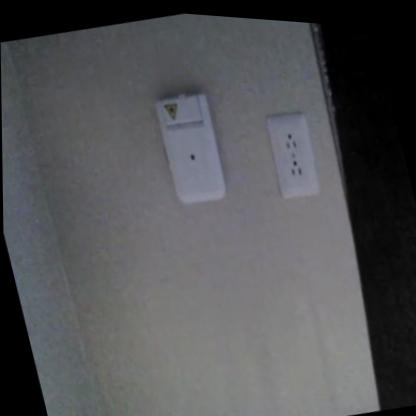OUTLET: (262, 106, 325, 204)
